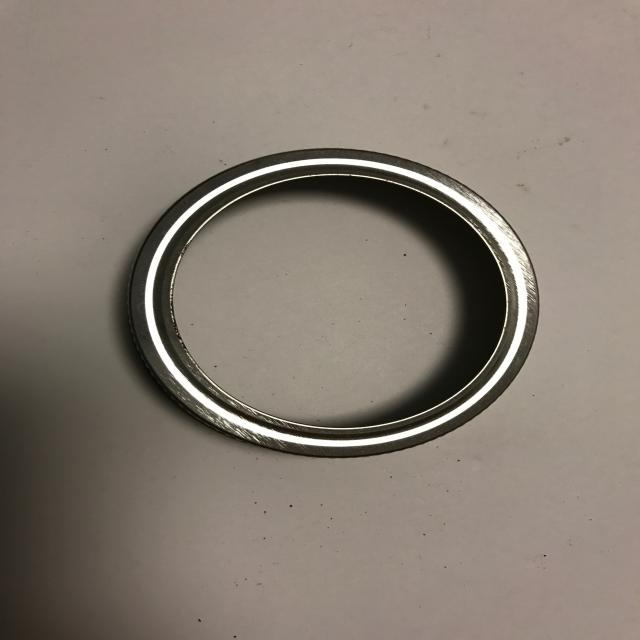metal: (128, 148, 544, 462)
